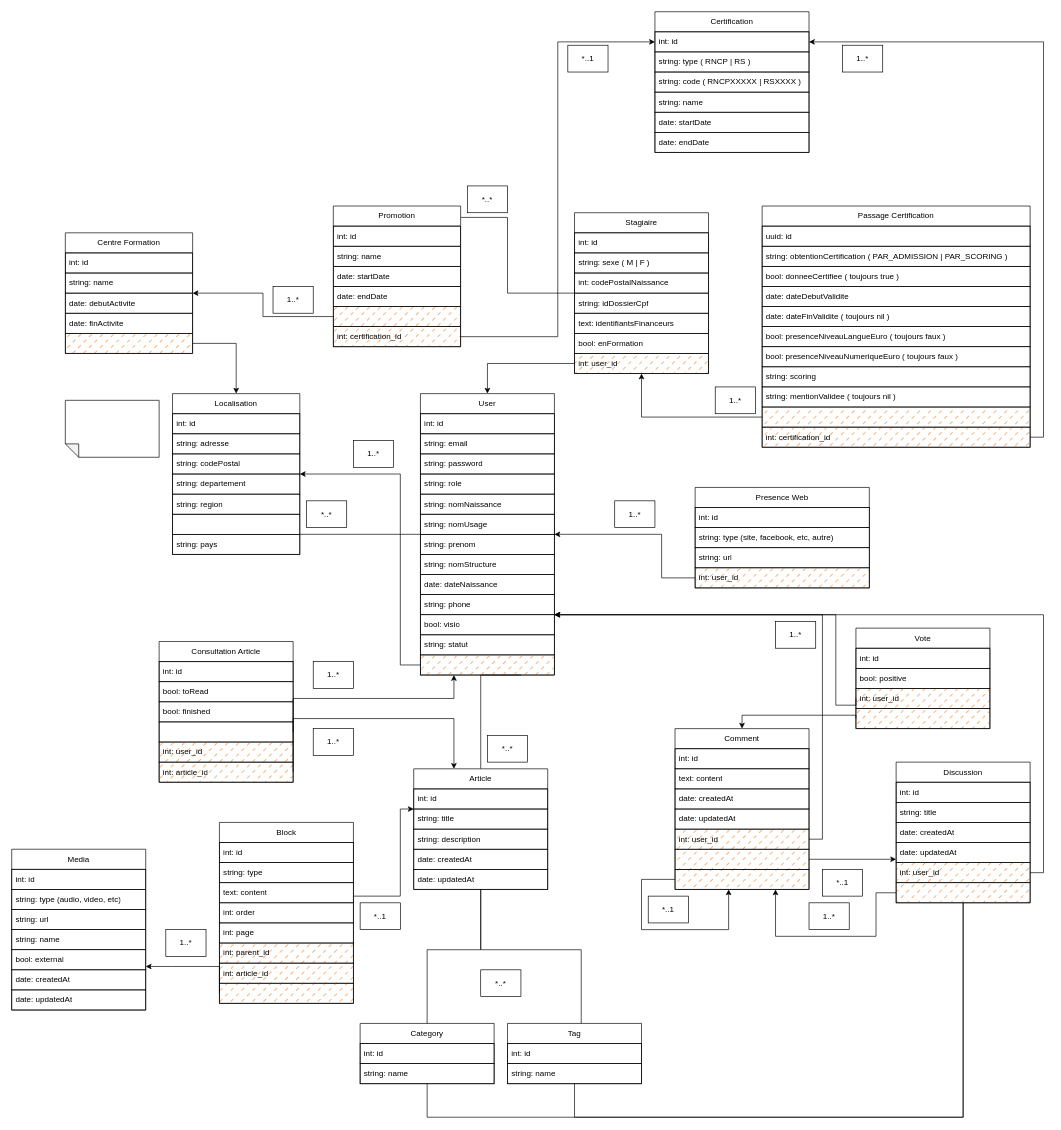
The diagram is 1061 pixels wide and 1130 high, and some of its shapes have lost their labels. Each missing label, with the centre of its shape:
"date: lastConsultedAt" goes at pixel 225 731.
"departement et region via API depuisinput du codePostal ?" goes at pixel 112 428.
"int: adressePostale" goes at pixel 487 664.
"int: centre_formation_id" goes at pixel 397 316.
"int: comment_id" goes at pixel 922 718.
"int: discussion_id" goes at pixel 741 859.
"int: localisation_id" goes at pixel 129 343.
"int: media_id" goes at pixel 286 993.
"int: replyingTo_id" goes at pixel 741 879.
"int: stagiaire_id" goes at pixel 895 416.
"int: start_id" goes at pixel 962 892.
"string: ville" goes at pixel 236 524.
